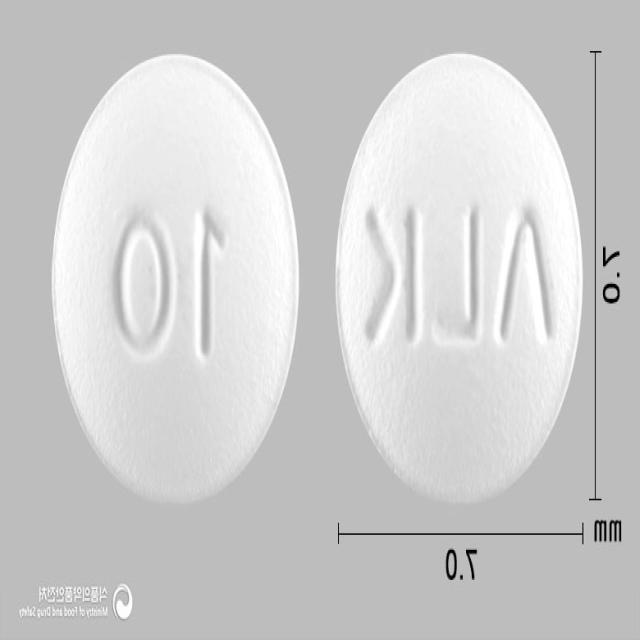Cirokan: (334, 52, 584, 508), (51, 54, 299, 502)
